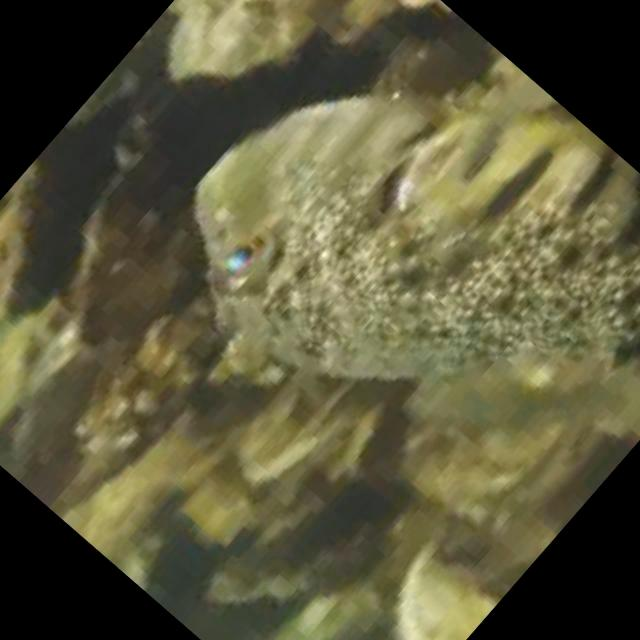Oyster-Closed: (76, 289, 221, 460), (397, 412, 597, 534), (232, 370, 375, 483), (166, 0, 316, 85), (406, 542, 496, 639), (370, 28, 485, 93), (170, 0, 233, 19)
Oyster-Open: (4, 71, 270, 340), (208, 482, 401, 602)
